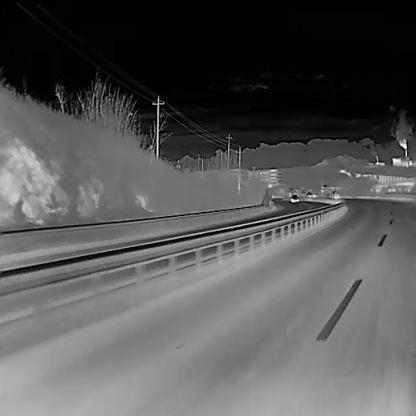car: (289, 193, 299, 203), (330, 189, 340, 199), (305, 191, 313, 200), (312, 193, 316, 198)
